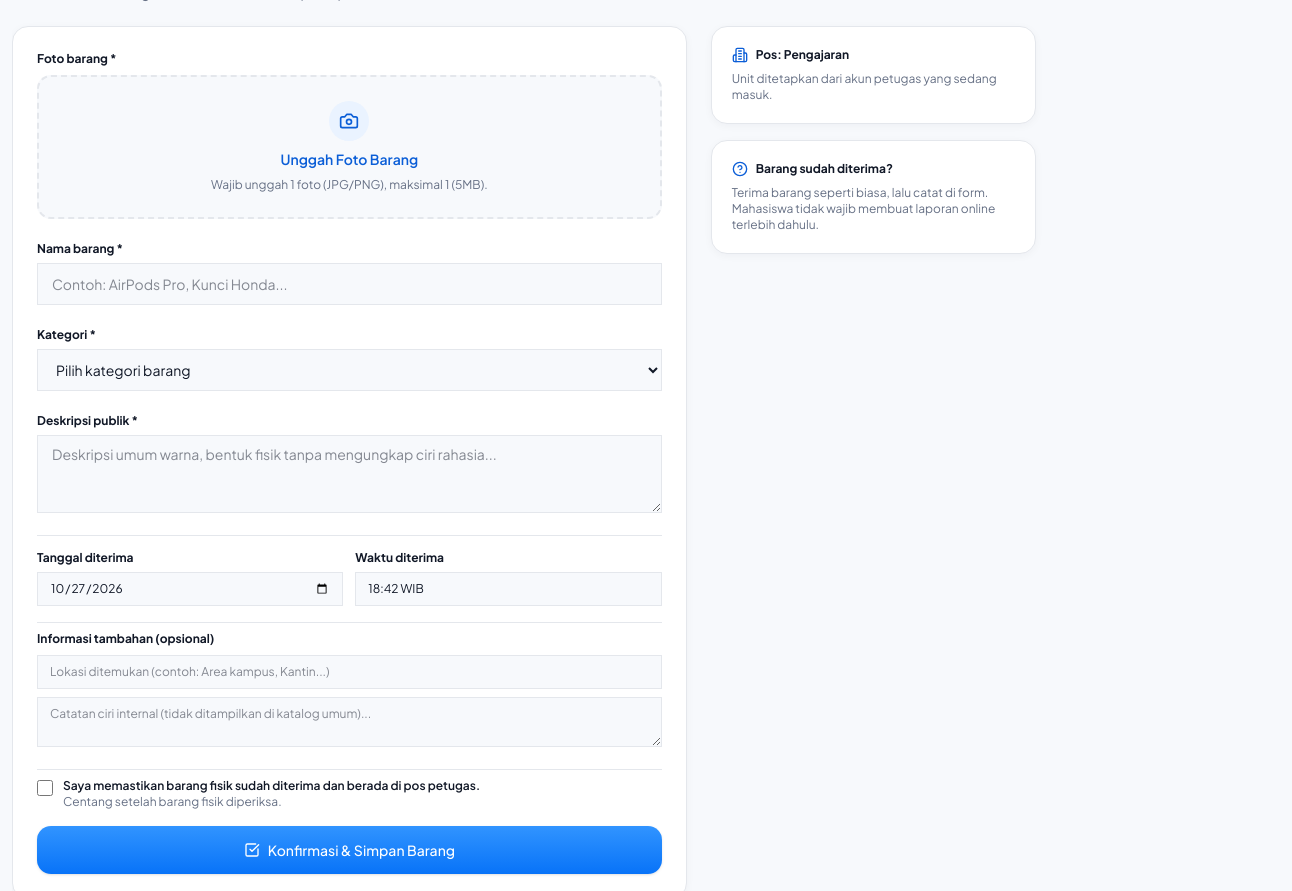
Test: Officer Item Registration Submilestone (F/B.3) › F/B.3.1 - F/B.3.5 Form Catat Barang & Atomic Create › validates mandatory photo and fields before submitting
The width and height of the screenshot is (1292, 891).
(page scrolled)
Click the button "Konfirmasi & Simpan Barang" at coordinates (349, 850), box 37,826 -> 662,874
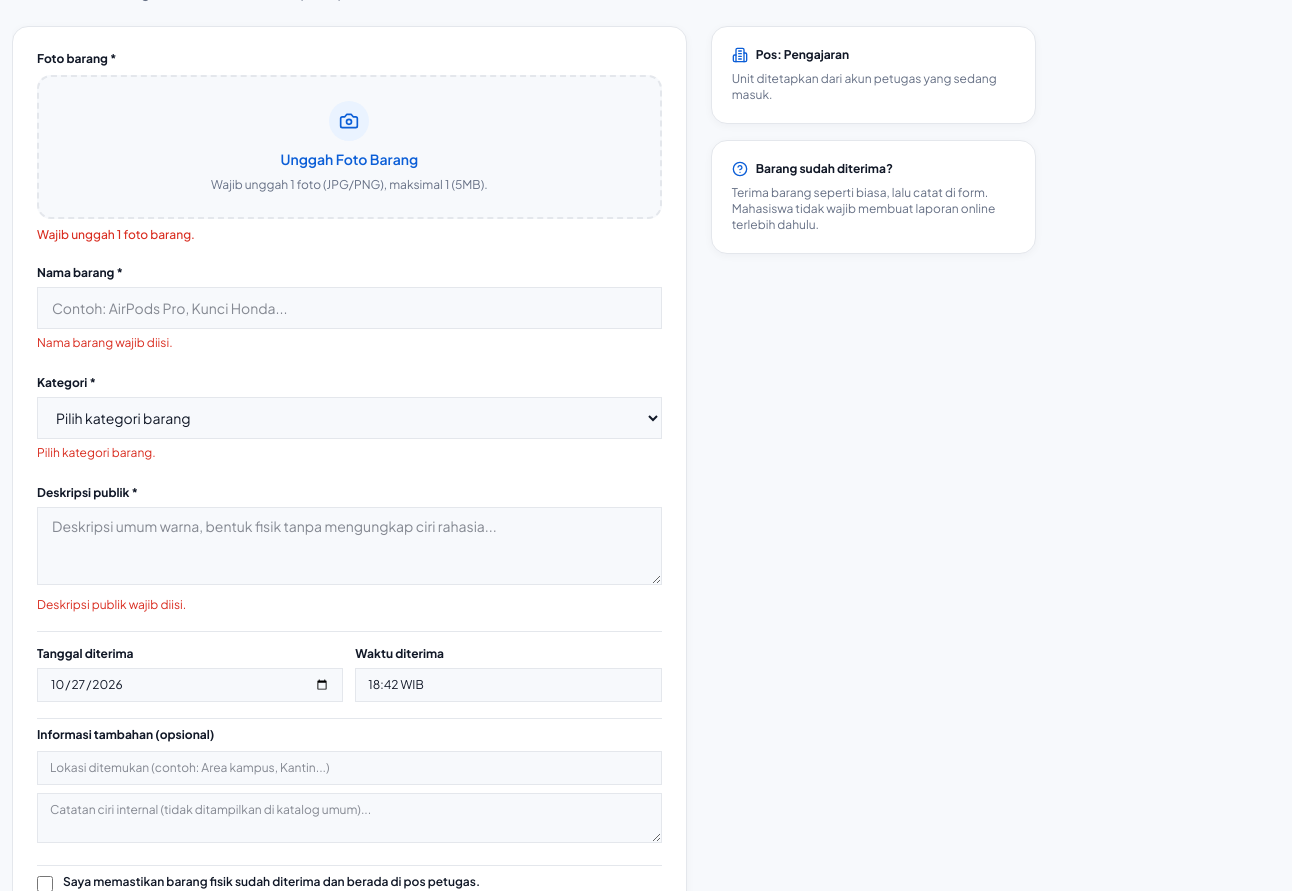
Check: the text "Wajib unggah 1 foto barang." is shown, box 37,227 -> 195,242
Check: the text "Nama barang wajib diisi." is shown, box 37,335 -> 173,350
Check: the text "Pilih kategori barang." is shown, box 37,445 -> 156,460
